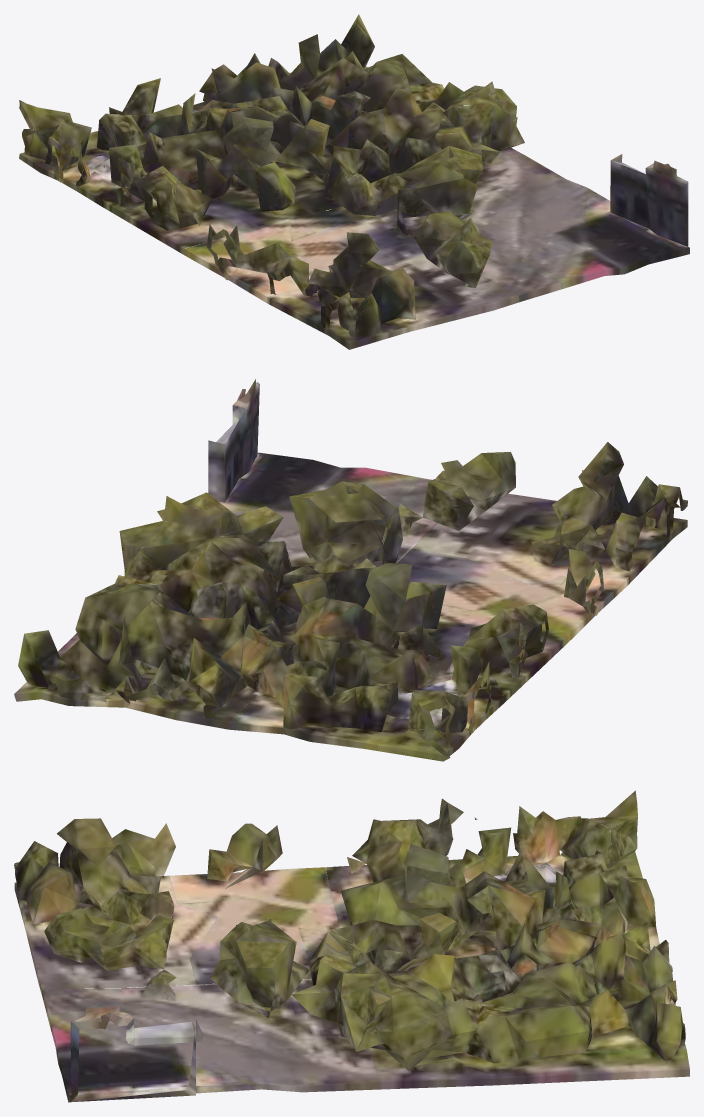
3 views of the same model, one above another, from view 1: azimuth 30°, elevation 25°; view 2: azimuth 150°, elevation 25°; view 3: azimuth 270°, elevation 25° (orthographic). The views are drawn at different scales.
Parts seen in each view (by area): view 1: Mesh_0; view 2: Mesh_0; view 3: Mesh_0.
Part boxes in pixels (x1,y1,x2,y2): Mesh_0: [19, 14, 689, 349]; Mesh_0: [14, 379, 687, 761]; Mesh_0: [14, 790, 689, 1102].
Size of the model in its own units: 135 by 30.27 by 165.
2 materials, 2 textured.
